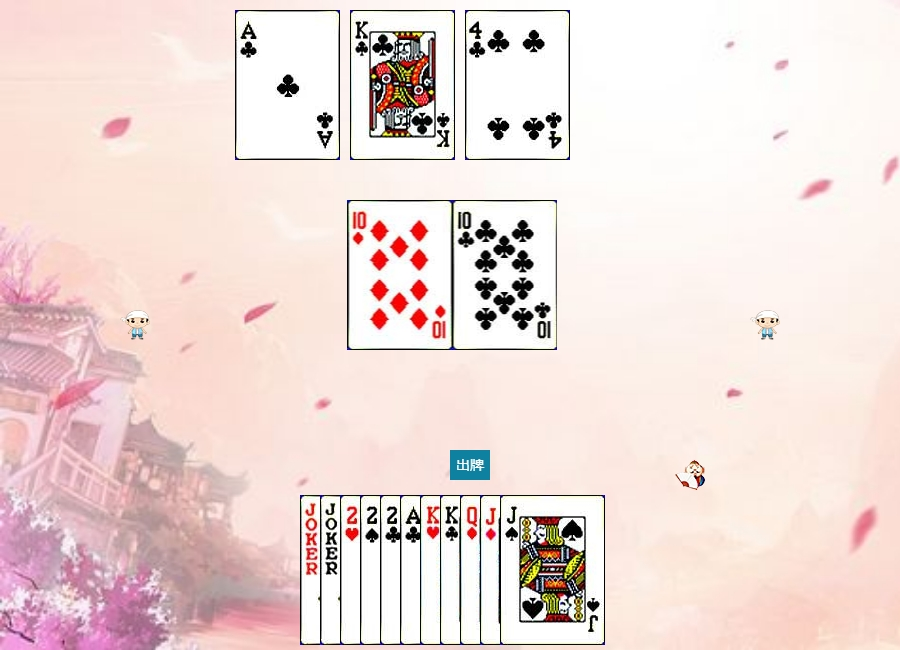10~1: (348, 200, 453, 350)
10~2: (453, 200, 558, 350)
11~1: (480, 495, 585, 645)
11~4: (500, 495, 605, 645)
12~1: (460, 495, 565, 645)
13~2: (350, 10, 455, 160), (440, 495, 545, 645)
13~3: (420, 495, 525, 645)
14~2: (235, 10, 340, 160), (400, 495, 505, 645)
15~2: (380, 495, 485, 645)
15~3: (340, 495, 445, 645)
15~4: (360, 495, 465, 645)
17~3: (320, 495, 425, 645)
18~4: (300, 495, 405, 645)
4~2: (465, 10, 570, 160)
